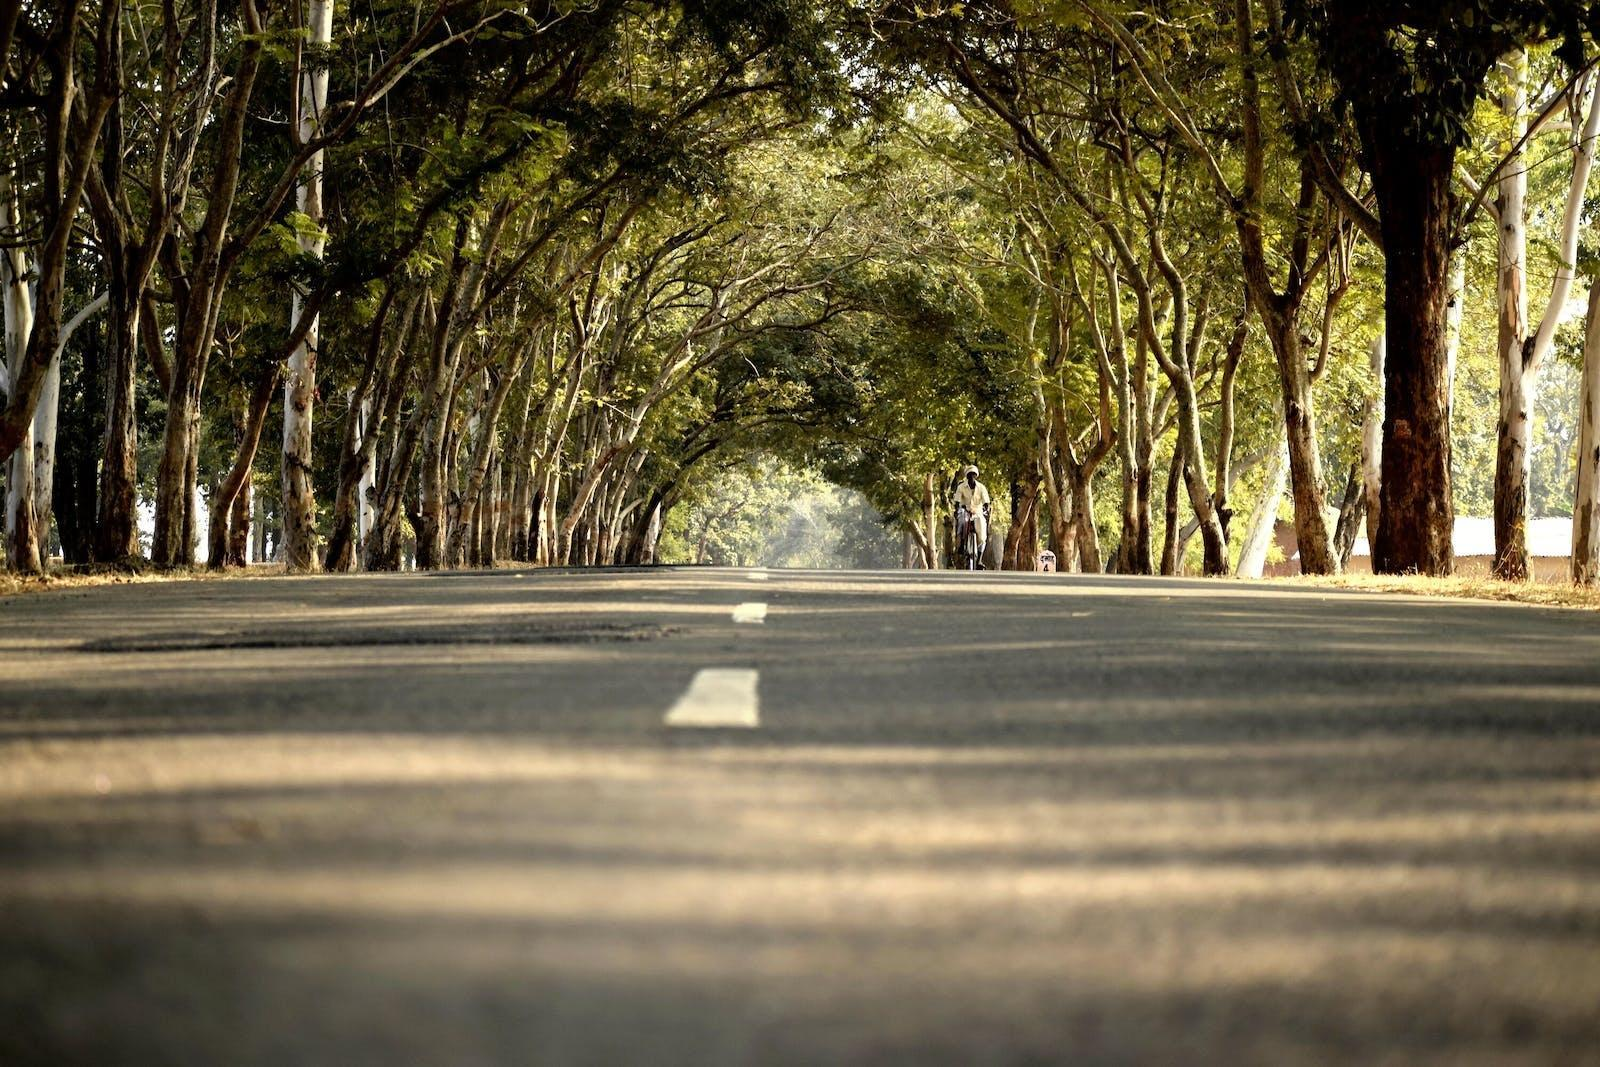road: (0, 568, 1599, 1063)
